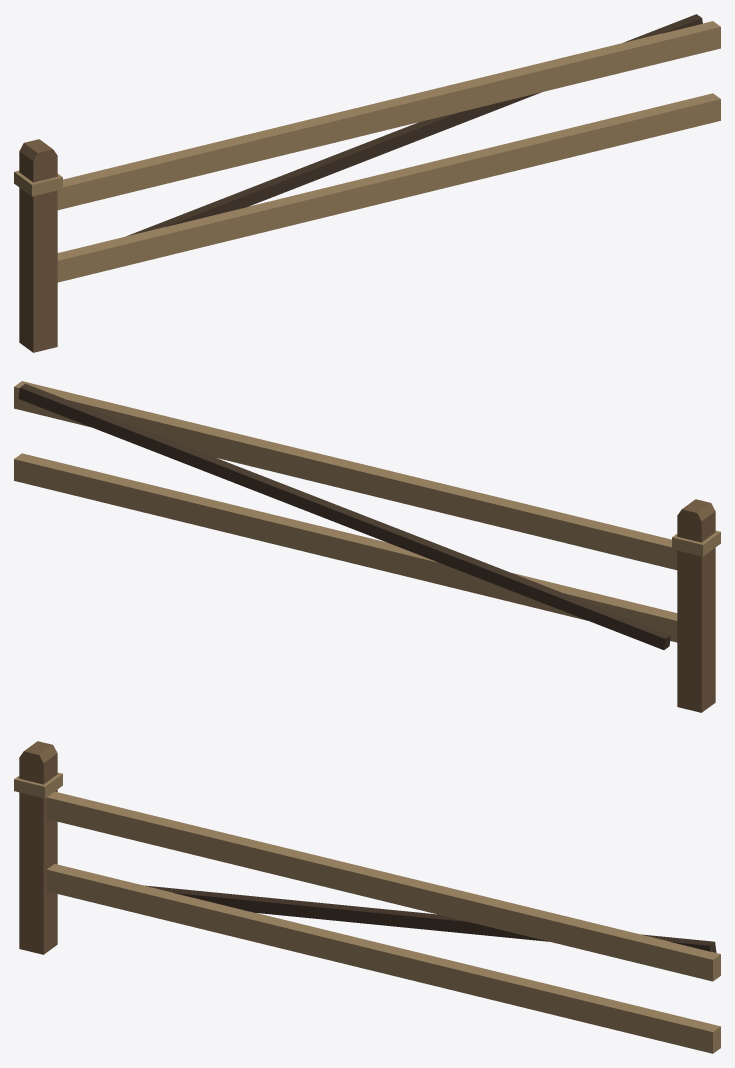
The model's file is TW_WOOD_RAIL_4M_B_LOD0.glb.
3 renders of one model, top to bottom at view 1: azimuth 30°, elevation 25°; view 2: azimuth 150°, elevation 25°; view 3: azimuth 330°, elevation 25°, orthographic.
Visible parts, largest first — view 1: TW_WOOD_RAIL_4M_B_LOD0; view 2: TW_WOOD_RAIL_4M_B_LOD0; view 3: TW_WOOD_RAIL_4M_B_LOD0.
Part boxes in pixels (x1,y1,x2,y2): TW_WOOD_RAIL_4M_B_LOD0: (14, 14, 720, 352); TW_WOOD_RAIL_4M_B_LOD0: (14, 381, 720, 712); TW_WOOD_RAIL_4M_B_LOD0: (14, 741, 720, 1053).
Size of the model in its own units: 4.02 by 1.1 by 0.1825.
Materials: 1 (1 with a texture image).
